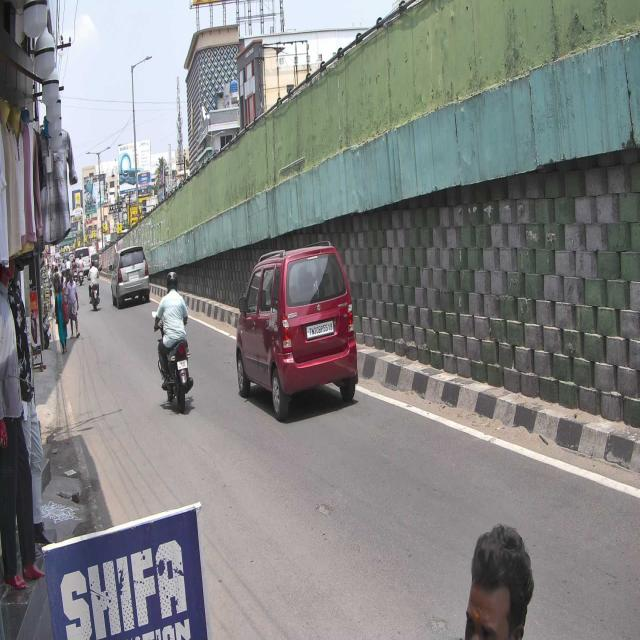single_rider: (154, 269, 196, 418)
